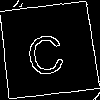C: (23, 25, 67, 77)
